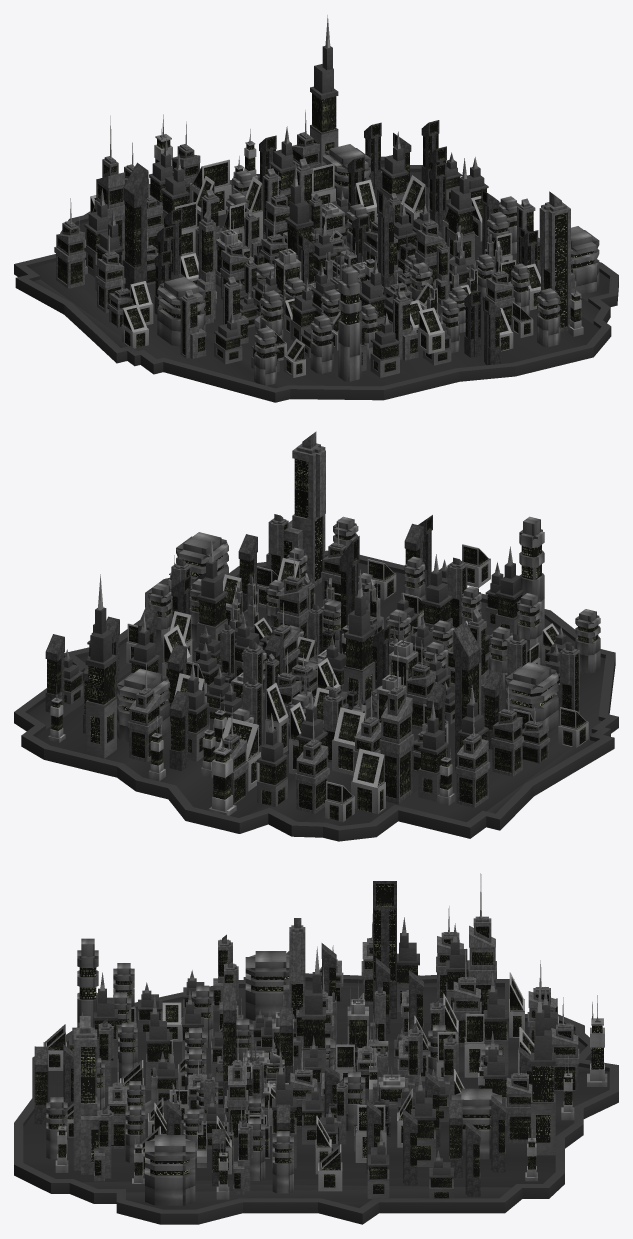
File: cyberpunk_city.glb
The picture shows the model from 3 angles, top to bottom: view 1: azimuth 30°, elevation 25°; view 2: azimuth 150°, elevation 25°; view 3: azimuth 270°, elevation 25°; orthographic projection. The views are drawn at different scales.
Visible parts, largest first — view 1: Material4.001, Material3.003, Material2.001, Material3.001, Material3.004, Material3, Material3.005, Material3.002; view 2: Material4.001, Material3.003, Material2.001, Material3.001, Material3.004, Material3, Material3.005, Material3.002; view 3: Material3.003, Material4.001, Material2.001, Material3.001, Material3.004, Material3, Material3.005, Material3.002.
Boxes of the visible parts, <box> form: Material4.001: <box>57,93,594,374</box>; Material3.003: <box>84,46,599,385</box>; Material2.001: <box>14,156,618,402</box>; Material3.001: <box>54,132,581,360</box>; Material3.004: <box>123,120,538,365</box>; Material3: <box>69,15,575,377</box>; Material3.005: <box>81,134,583,336</box>; Material3.002: <box>70,110,499,290</box>; Material4.001: <box>47,459,598,820</box>; Material3.003: <box>64,516,600,806</box>; Material2.001: <box>14,550,618,841</box>; Material3.001: <box>56,431,579,813</box>; Material3.004: <box>45,515,502,770</box>; Material3: <box>56,539,588,822</box>; Material3.005: <box>48,572,455,815</box>; Material3.002: <box>145,519,535,741</box>; Material3.003: <box>46,933,560,1205</box>; Material4.001: <box>35,884,603,1198</box>; Material2.001: <box>14,973,618,1224</box>; Material3.001: <box>61,916,599,1194</box>; Material3.004: <box>34,881,532,1196</box>; Material3: <box>43,916,598,1191</box>; Material3.005: <box>55,980,607,1199</box>; Material3.002: <box>117,873,563,1084</box>.
Bounding box in the file's own units: 87264 × 31424 × 92096.
Materials: 10 (8 with a texture image).
